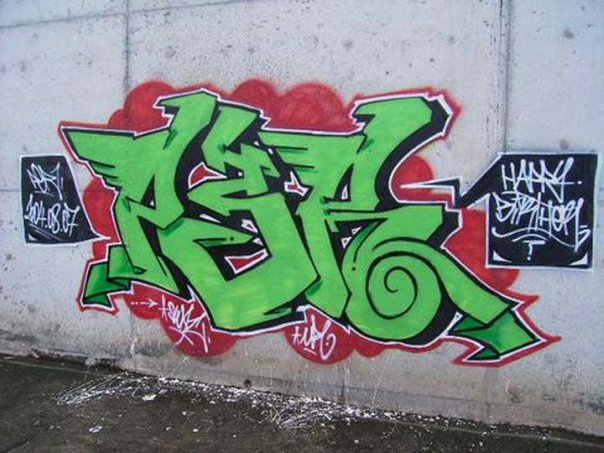graffity: (57, 72, 563, 369), (399, 149, 603, 277), (16, 151, 111, 250)
